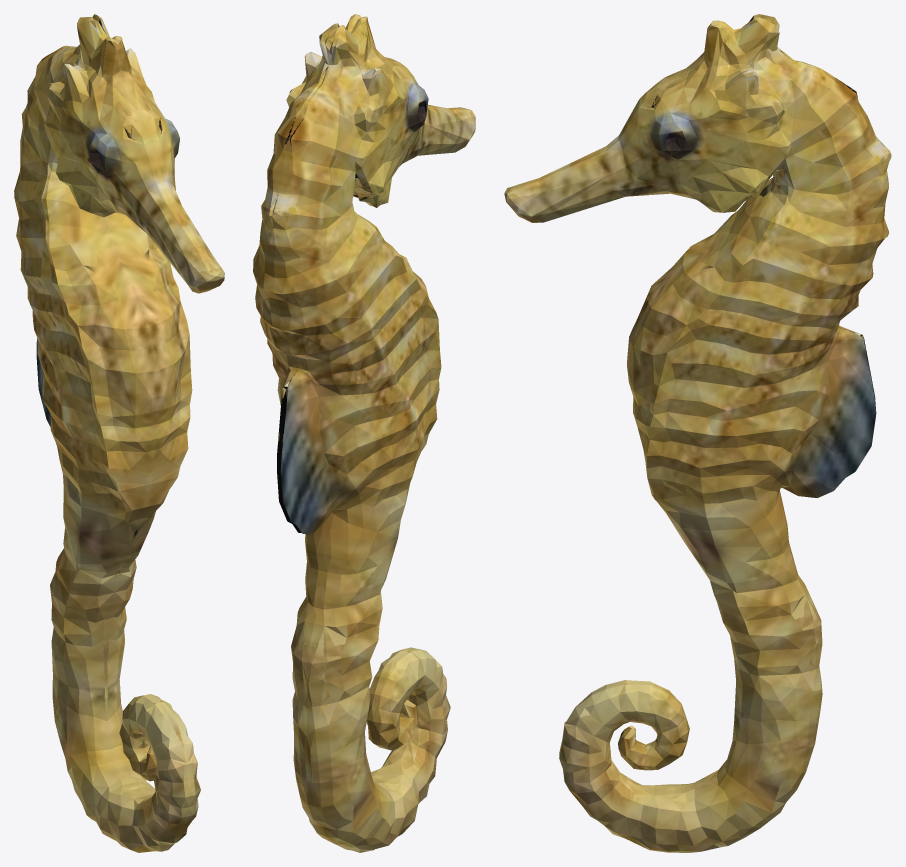
Rendered from Seahorse-bl.obj.
3 renders of one model, left to right at view 1: azimuth 30°, elevation 25°; view 2: azimuth 150°, elevation 25°; view 3: azimuth 270°, elevation 25°, orthographic. The views are drawn at different scales.
Parts seen in each view (by area): view 1: Seahorse_FBX; view 2: Seahorse_FBX; view 3: Seahorse_FBX.
Boxes of the visible parts, x1,y1,x2,y2 form: Seahorse_FBX: (14,14,224,852); Seahorse_FBX: (253,14,475,852); Seahorse_FBX: (504,14,891,852).
Size of the model in its own units: 0.9291 by 6.39 by 2.69.
Materials: 1 (1 with a texture image).
